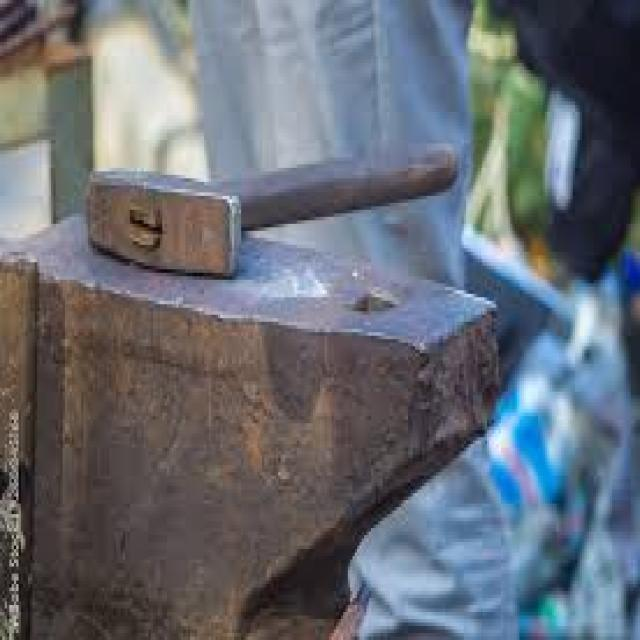hammer: (70, 140, 467, 284)
